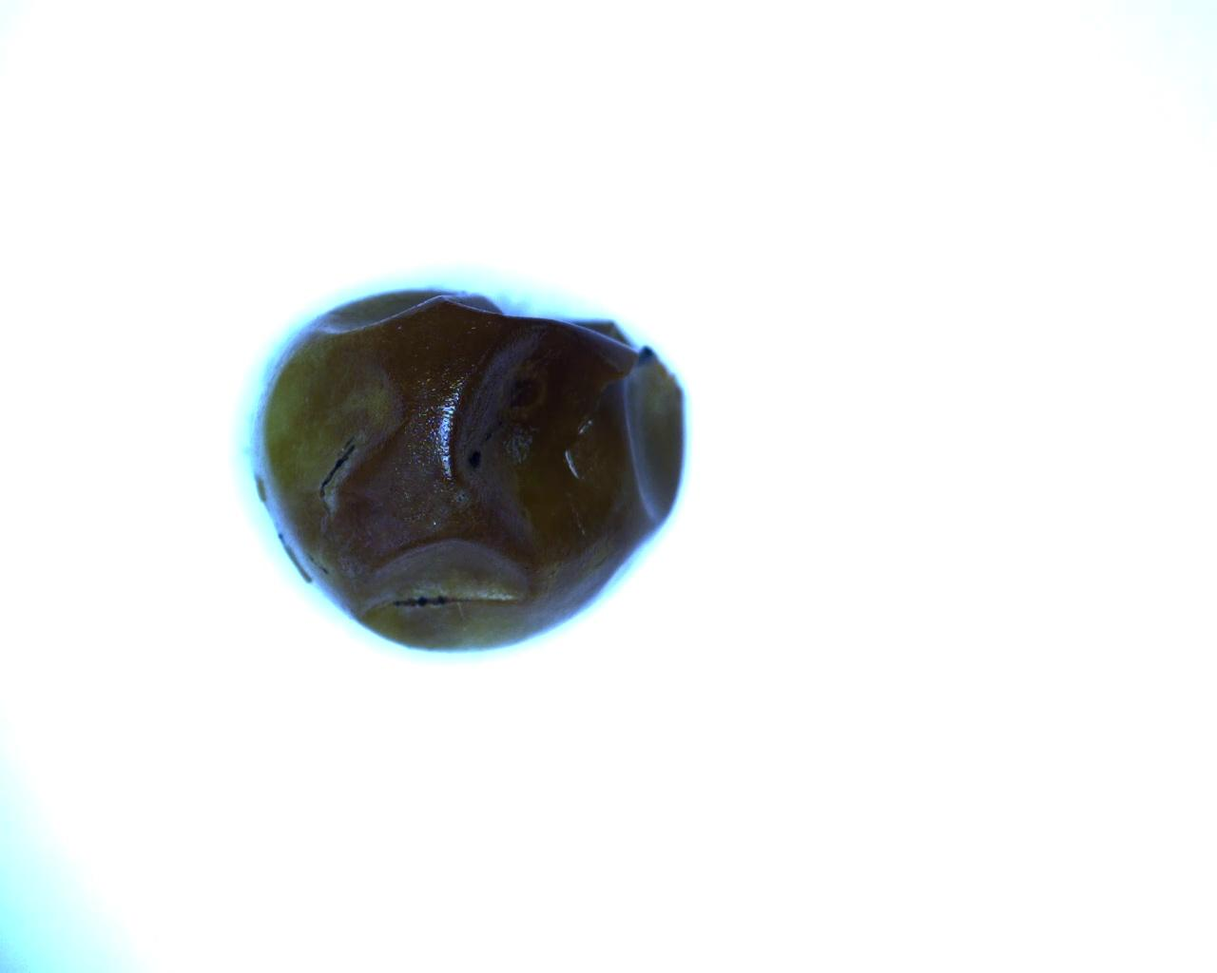Grape Rotten: (247, 285, 687, 653)
